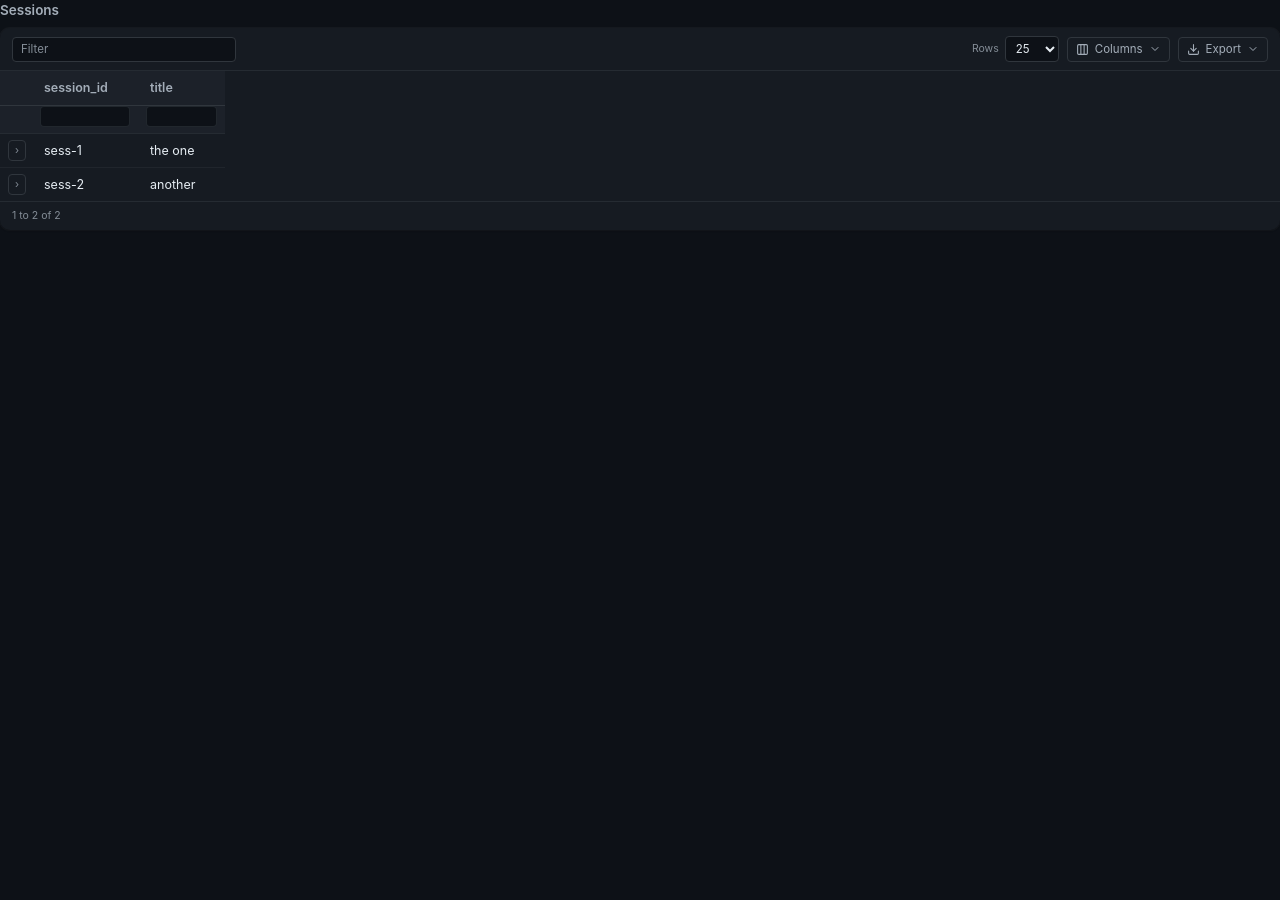
Scenario: a row of the Sessions list › opens the panel from the control beside it, without selecting anything
Click the button named "plans and background work": [17, 151] box x1=8 y1=140 x2=26 y2=161
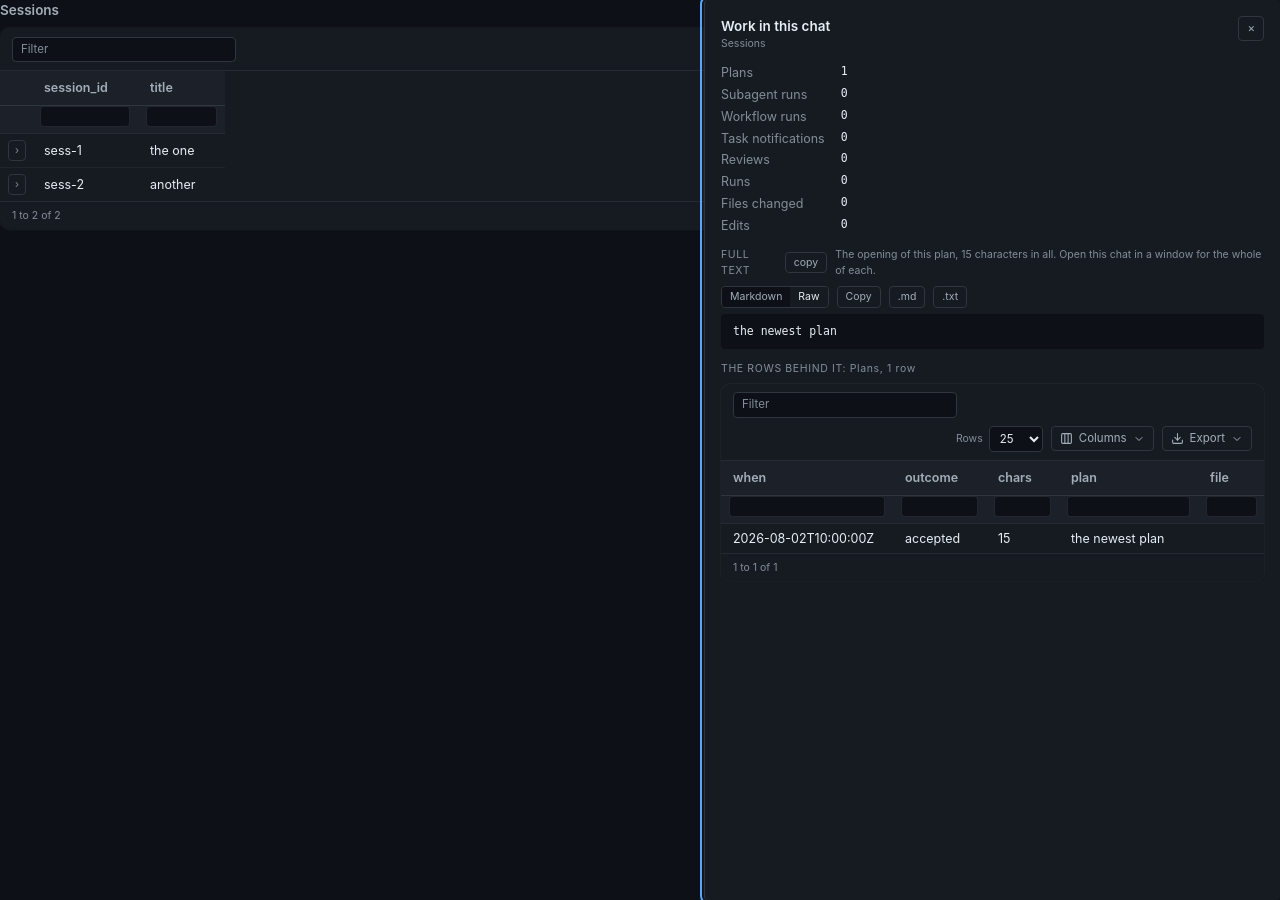
Check: the text "the newest plan" is shown 2 times, box x1=733 y1=324 x2=837 y2=338; x1=1059 y1=523 x2=1198 y2=553
Check: the dialog shows "accepted", box x1=905 y1=531 x2=960 y2=546
